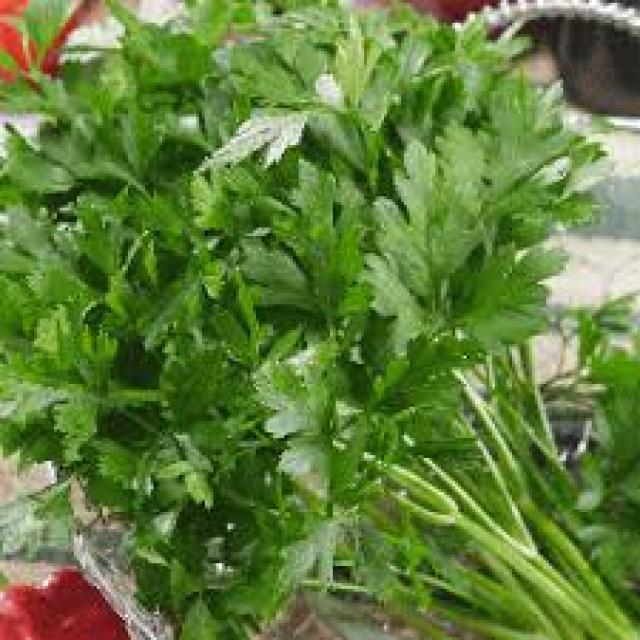organic waste: (0, 0, 637, 637), (395, 131, 492, 293), (273, 159, 367, 299), (481, 65, 569, 165), (239, 230, 327, 316), (253, 350, 339, 432)
